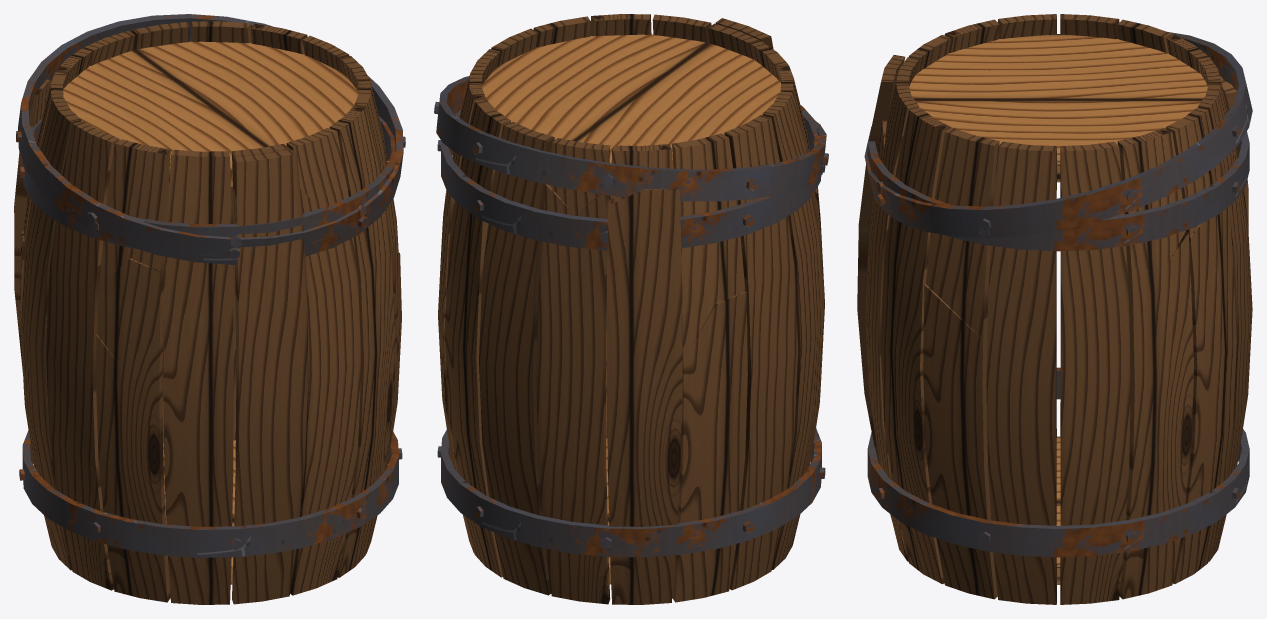
File: Barrel.glb
3 renders of one model, left to right at view 1: azimuth 30°, elevation 25°; view 2: azimuth 150°, elevation 25°; view 3: azimuth 270°, elevation 25°, orthographic.
Parts seen in each view (by area): view 1: Intact, Damaged, Piece_2, Piece_1, Piece_3; view 2: Intact, Damaged, Piece_1, Piece_0, Piece_2; view 3: Intact, Damaged, Piece_3, Piece_0.
Part boxes in pixels (left/top/right/bottom): Intact: left=19, top=21, right=402, bottom=604; Damaged: left=14, top=14, right=405, bottom=604; Piece_2: left=47, top=126, right=162, bottom=560; Piece_1: left=19, top=231, right=69, bottom=559; Piece_3: left=293, top=56, right=401, bottom=593; Intact: left=437, top=14, right=825, bottom=604; Damaged: left=434, top=18, right=828, bottom=604; Piece_1: left=536, top=127, right=797, bottom=592; Piece_0: left=442, top=49, right=553, bottom=590; Piece_2: left=708, top=28, right=820, bottom=555; Intact: left=864, top=14, right=1252, bottom=604; Damaged: left=857, top=32, right=1252, bottom=518; Piece_3: left=865, top=119, right=1056, bottom=604; Piece_0: left=1060, top=83, right=1252, bottom=573.
Bounding box in the file's own units: 0.6239 × 0.8 × 0.6323.
3 materials, 3 textured.
